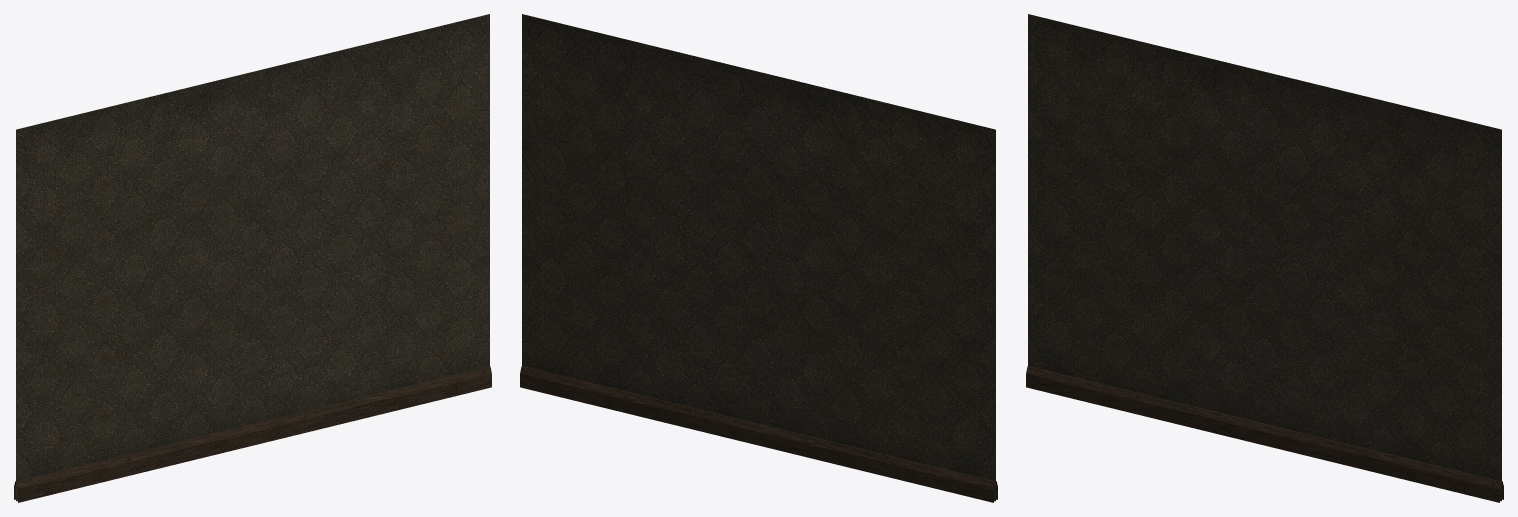
The model's file is wall_flat.glb.
The picture shows the model from 3 angles, left to right: view 1: azimuth 30°, elevation 25°; view 2: azimuth 150°, elevation 25°; view 3: azimuth 330°, elevation 25°; orthographic projection.
Visible parts, largest first — view 1: wall_2_1.001; view 2: wall_2_1.001; view 3: wall_2_1.001.
Part boxes in pixels (x1=…): wall_2_1.001: x1=14, y1=14, x2=491, y2=502; wall_2_1.001: x1=520, y1=14, x2=997, y2=502; wall_2_1.001: x1=1026, y1=14, x2=1503, y2=502.
Size of the model in its own units: 4 by 3 by 0.0596.
2 materials, 2 textured.
